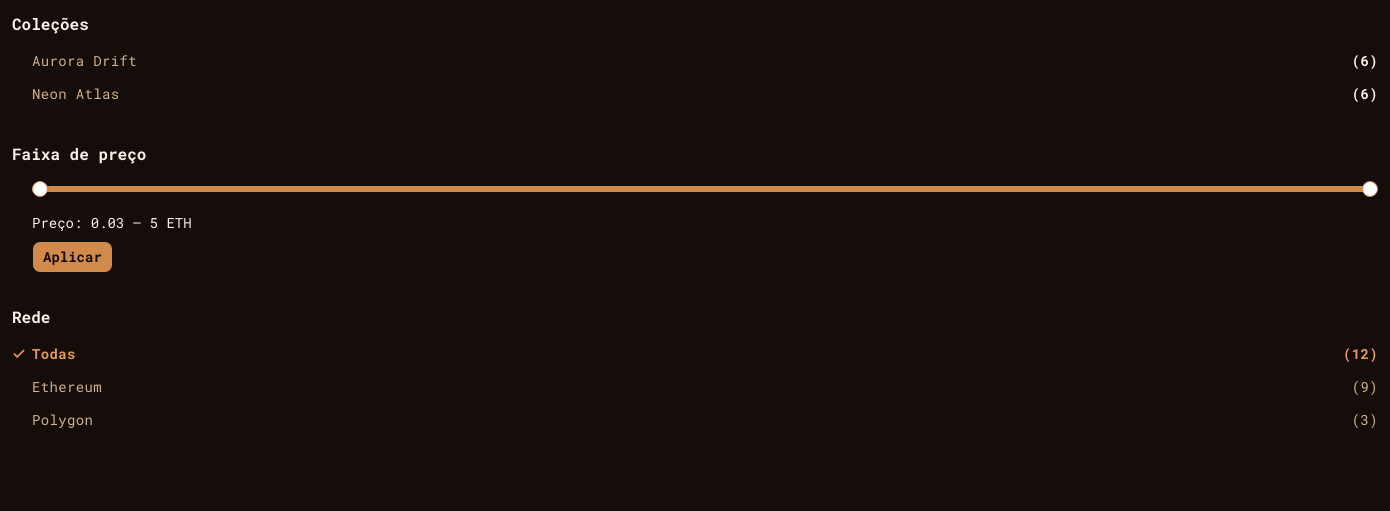
Test case: CatalogFilters: sem checkbox e rádio visíveis, com a semântica › rede é um radiogroup: "Todas" marcado sem rede na URL, e escolher uma rede grava `network`
Click the radio button labelled "Polygon (3)".
click(63, 420)  # box [12,403,1378,436]
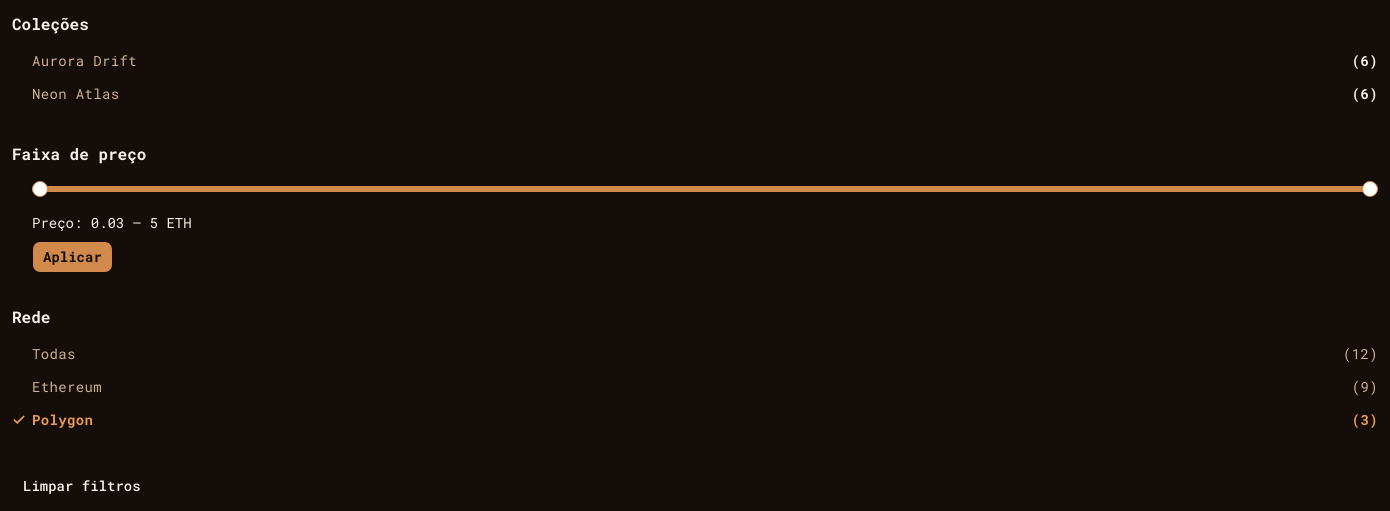
Check: the radio button labelled "Polygon (3)" is checked, box [12,403,1378,436]
